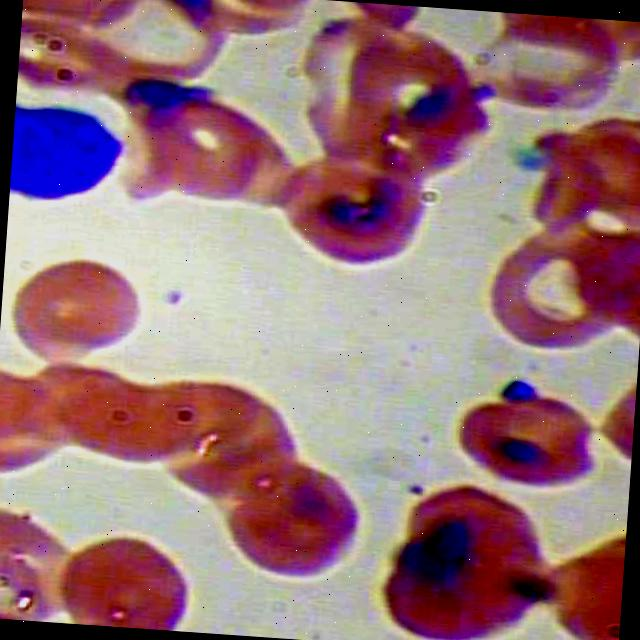Platelets: (492, 366, 540, 407)
RBC: (307, 17, 491, 185), (370, 522, 541, 640), (453, 369, 603, 502), (218, 454, 368, 586), (161, 392, 311, 524), (282, 150, 432, 282), (0, 243, 150, 375), (476, 223, 626, 355), (125, 80, 275, 212), (393, 477, 550, 598), (473, 11, 622, 131), (58, 518, 207, 632), (89, 0, 238, 101), (15, 6, 133, 104), (0, 373, 73, 482)
WBC: (6, 95, 133, 229)
